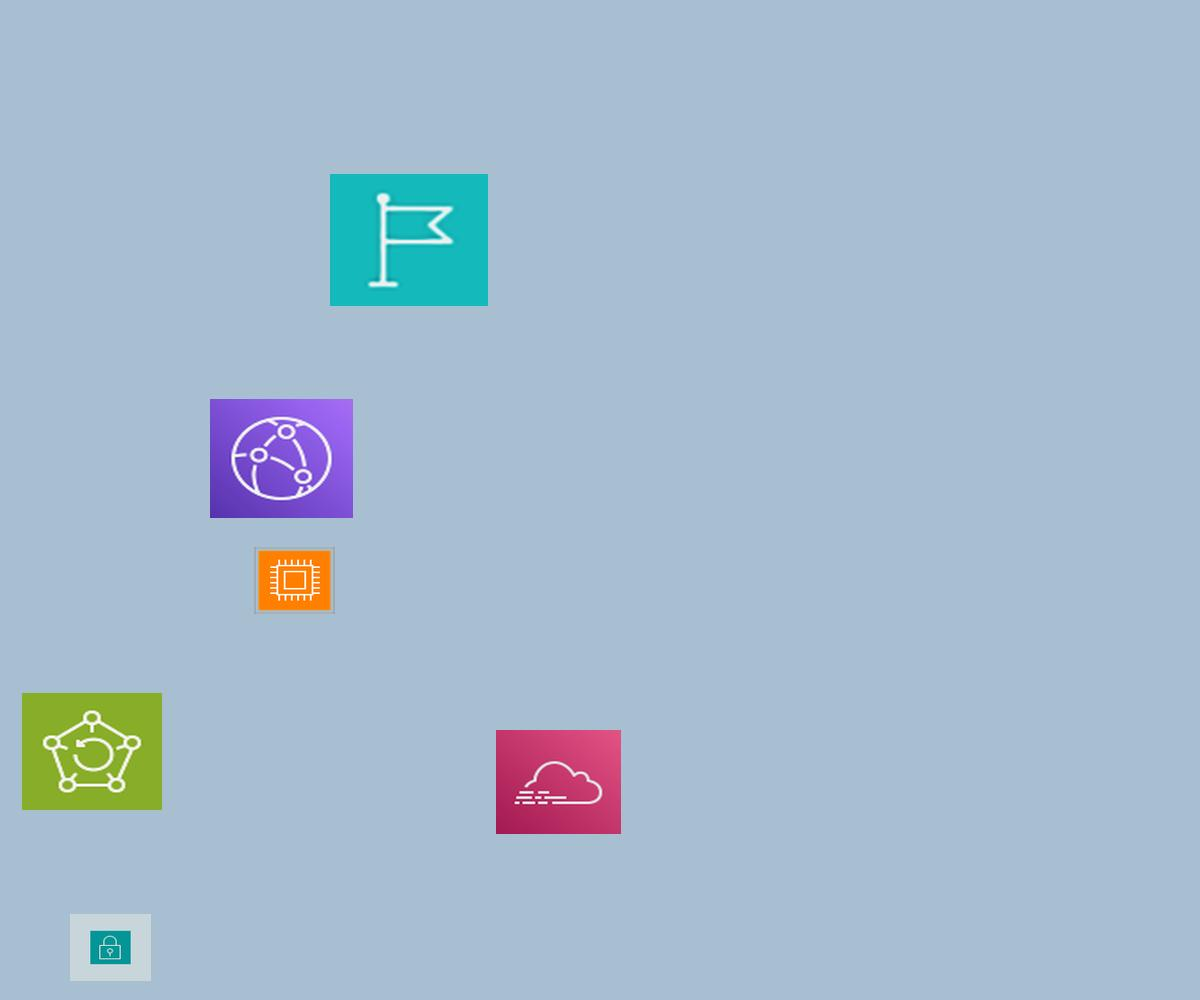AWS-Backup: (22, 693, 162, 810)
AWS-Category_Compute: (254, 547, 335, 614)
AWS-CloudFront: (210, 399, 353, 518)
AWS-CloudTrail: (496, 730, 621, 834)
AWS-Private-subnet: (70, 914, 151, 981)
AWS-Region: (330, 174, 488, 306)
